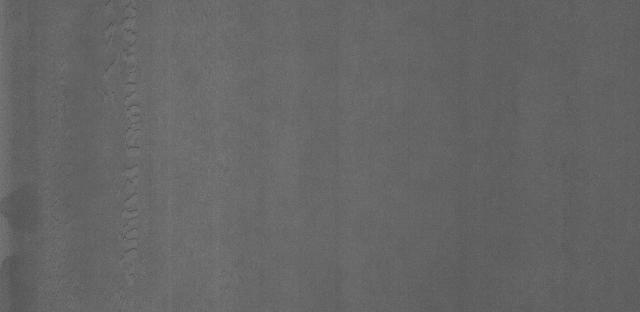silk_spot: (97, 6, 155, 296)
